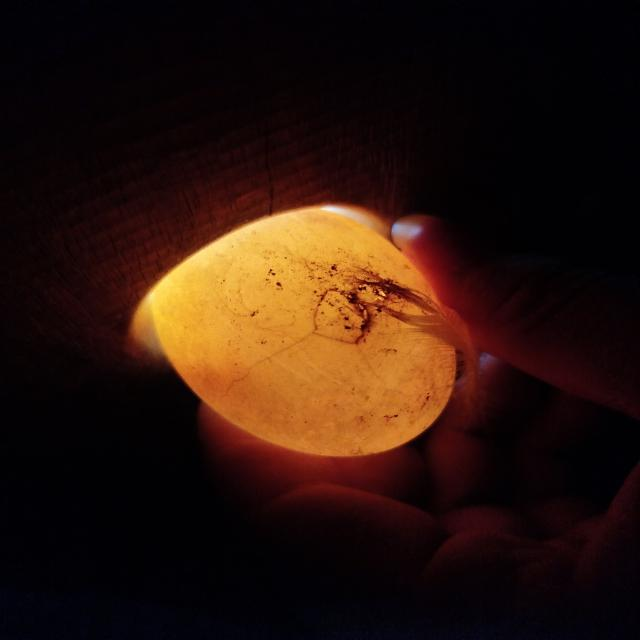Rachadura: (220, 290, 369, 401)
